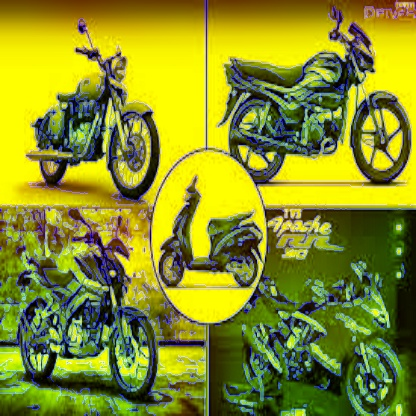bike: (222, 16, 410, 186), (12, 218, 157, 402), (259, 266, 402, 407), (27, 30, 157, 184), (160, 177, 260, 291)
